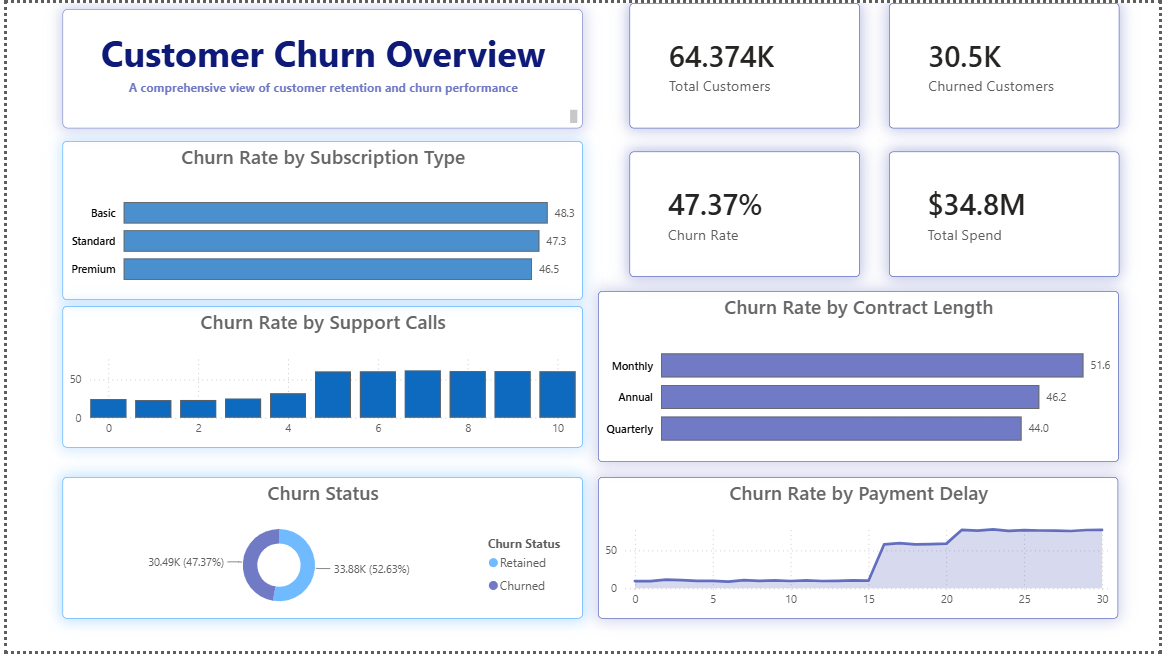

This screenshot's page, from the dashboard's own definition file:
{"tool":"powerbi","page":{"name":"Executive Overview","canvas":[1280,720],"ordinal":0},"visuals":[{"type":"cardVisual","fields":{"Data":["CustomerChurn.Churned Customers"]},"box":[979.6,0,255.8,139.3],"z":0},{"type":"cardVisual","fields":{"Data":["CustomerChurn.Total Customers"]},"box":[691.4,0,255.8,139.3],"z":1000},{"type":"cardVisual","fields":{"Data":["CustomerChurn.Churn Rate"]},"box":[691.4,165.2,255.8,139.3],"z":2000},{"type":"cardVisual","fields":{"Data":["CustomerChurn.Total Spend"]},"box":[979.6,165.2,255.8,139.3],"z":3000},{"type":"clusteredBarChart","title":"Churn Rate by Subscription Type","fields":{"Category":["vw_ChurnBySubscription.Subscription_Type"],"Y":["Avg(vw_ChurnBySubscription.ChurnRate)"]},"box":[61.5,153.8,578.1,176.5],"z":4000},{"type":"clusteredBarChart","title":"Churn Rate by Contract Length","fields":{"Category":["vw_ChurnByContracts.Contract_Length"],"Y":["Avg(vw_ChurnByContracts.ChurnRate)"]},"box":[657.4,320.6,578.3,190],"z":5000},{"type":"columnChart","title":"Churn Rate by Support Calls","fields":{"Category":["vw_ChurnBySupportCalls.Support_Calls"],"Y":["Divide(Sum(vw_ChurnBySupportCalls.ChurnRate), ScopedEval(Sum(vw_ChurnBySupportCalls.ChurnRate), []))"]},"box":[61.3,336.7,578,157.3],"z":6000},{"type":"lineChart","title":"Churn Rate by Payment Delay","fields":{"Y":["Avg(vw_ChurnByPaymentDelay.ChurnRate)"],"Category":["vw_ChurnByPaymentDelay.Payment_Delay"]},"box":[657.4,526.2,578.1,157.1],"z":7000},{"type":"donutChart","title":"Churn Status","fields":{"Y":["CountNonNull(CustomerChurn.CustomerID)"],"Category":["CustomerChurn.Churn Status"]},"box":[61.7,526.7,578,157],"z":8000},{"type":"textbox","title":"Customer Churn Overview","box":[61.5,6.5,578.1,132.8],"z":9000}]}

Visuals, with their boxes in screenshot pixels (x1, y1, x2, y2), scaled from the page's 1280x720 canvas onto the 1162x655 screenshot:
cardVisual - CustomerChurn.Churned Customers: (889,0,1122,127)
cardVisual - CustomerChurn.Total Customers: (628,0,860,127)
cardVisual - CustomerChurn.Churn Rate: (628,150,860,277)
cardVisual - CustomerChurn.Total Spend: (889,150,1122,277)
"Churn Rate by Subscription Type" clusteredBarChart: (56,140,581,300)
"Churn Rate by Contract Length" clusteredBarChart: (597,292,1122,465)
"Churn Rate by Support Calls" columnChart: (56,306,580,449)
"Churn Rate by Payment Delay" lineChart: (597,479,1122,622)
"Churn Status" donutChart: (56,479,581,622)
"Customer Churn Overview" textbox: (56,6,581,127)
